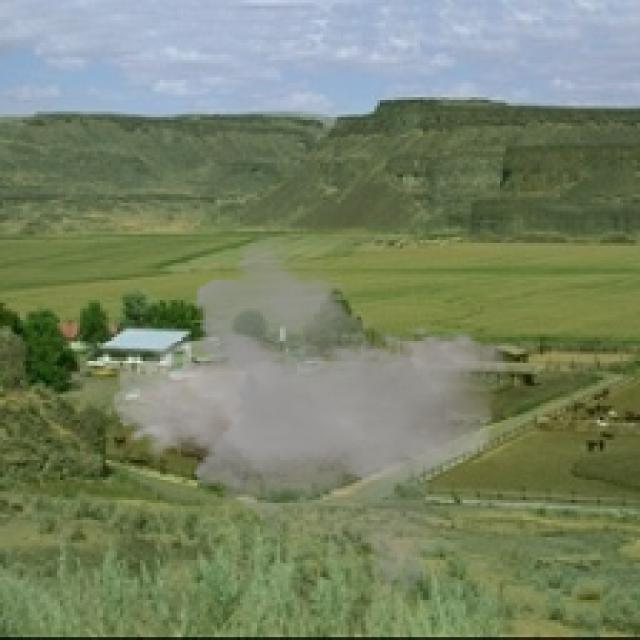smoke: (111, 231, 512, 600)
